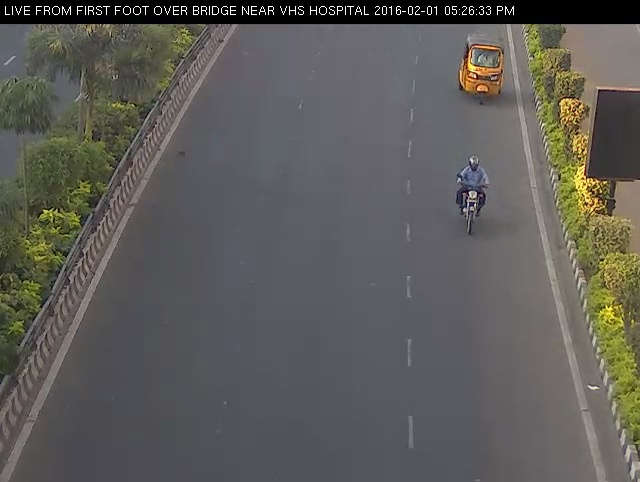Auto: (454, 29, 508, 112)
Person: (446, 146, 497, 242)
